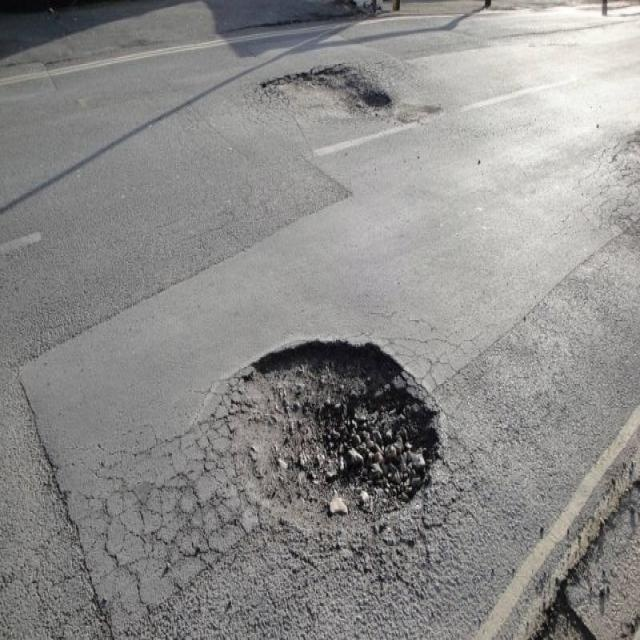pothole: (190, 278, 444, 567), (268, 56, 408, 148)
